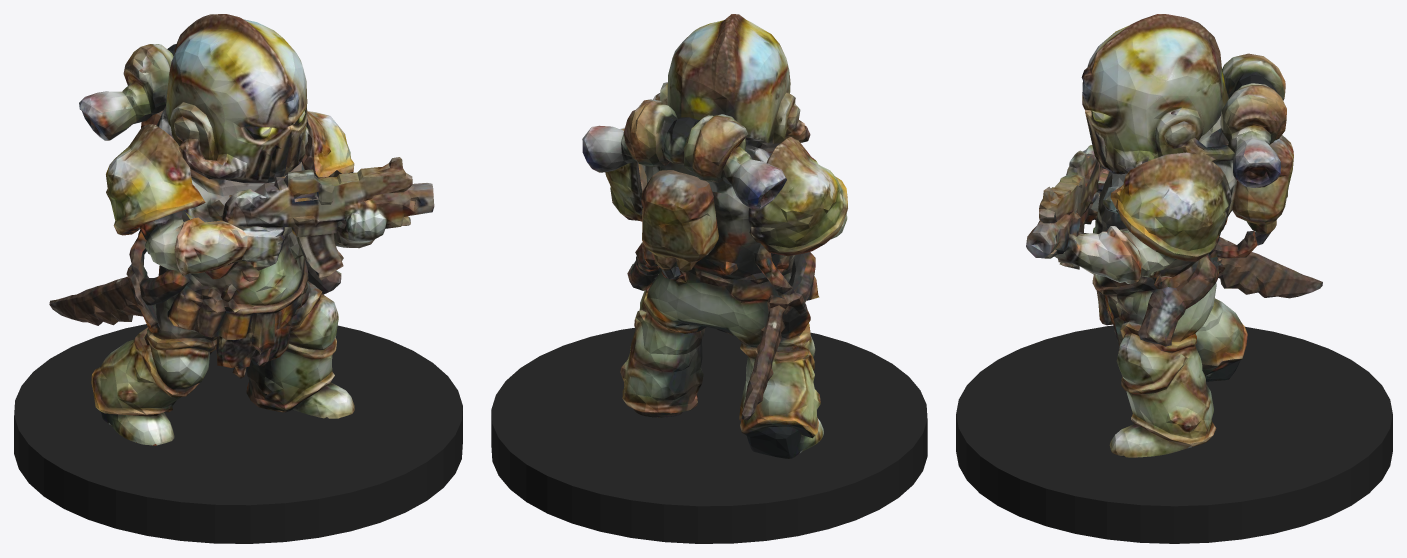
File: pm-plague-marine-warrior.glb
3 views of the same model, side by side, from view 1: azimuth 30°, elevation 25°; view 2: azimuth 150°, elevation 25°; view 3: azimuth 270°, elevation 25° (orthographic). The views are drawn at different scales.
Visible parts, largest first — view 1: figure, base; view 2: figure, base; view 3: figure, base.
Part boxes in pixels (box(x1,y1,x2,y2)): figure: box(49, 14, 434, 445); base: box(14, 324, 462, 543); figure: box(582, 14, 847, 458); base: box(491, 327, 927, 543); figure: box(1026, 14, 1322, 457); base: box(956, 325, 1392, 543).
Bounding box in the file's own units: 1.26 × 1.37 × 1.26.
Materials: 2 (1 with a texture image).
